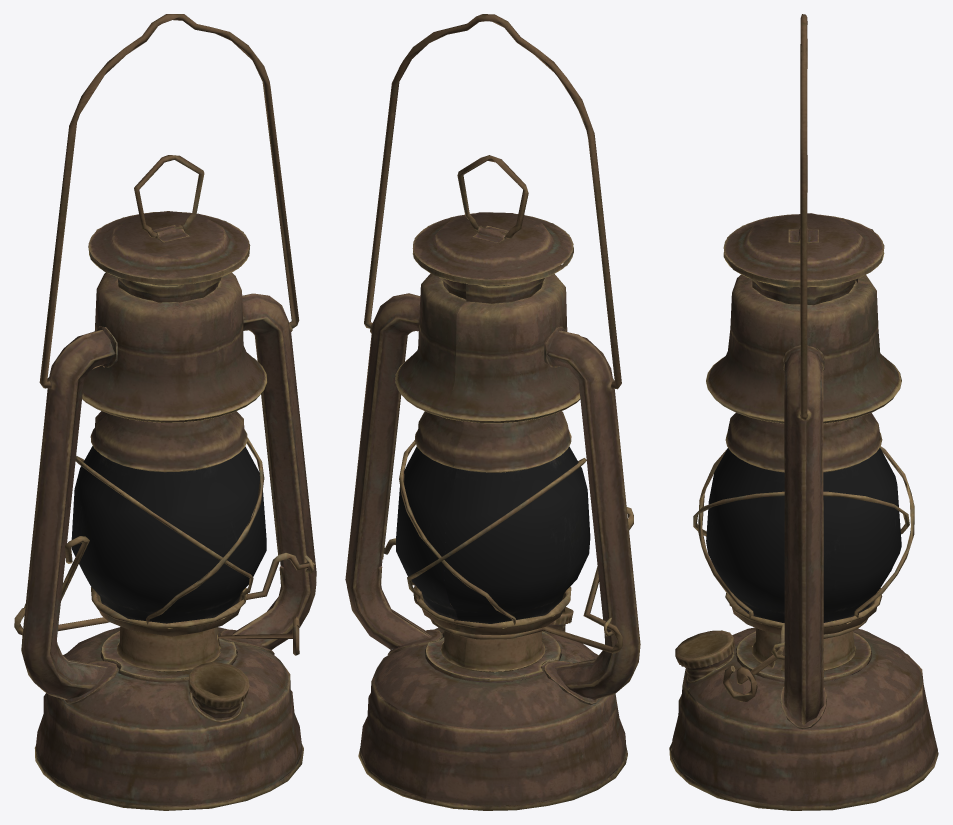
File: Lantern.fbx
The picture shows the model from 3 angles, left to right: view 1: azimuth 30°, elevation 25°; view 2: azimuth 150°, elevation 25°; view 3: azimuth 270°, elevation 25°; orthographic projection.
Visible parts, largest first — view 1: Lantern_01, Lantern_01_glass; view 2: Lantern_01, Lantern_01_glass; view 3: Lantern_01, Lantern_01_glass.
Boxes of the visible parts, bbox=[...] form: Lantern_01: bbox=[14, 14, 316, 810]; Lantern_01_glass: bbox=[71, 446, 266, 623]; Lantern_01: bbox=[345, 14, 640, 810]; Lantern_01_glass: bbox=[396, 446, 590, 623]; Lantern_01: bbox=[669, 14, 938, 810]; Lantern_01_glass: bbox=[706, 448, 901, 622].
Bounding box in the file's own units: 14.98 × 36.01 × 11.9.
